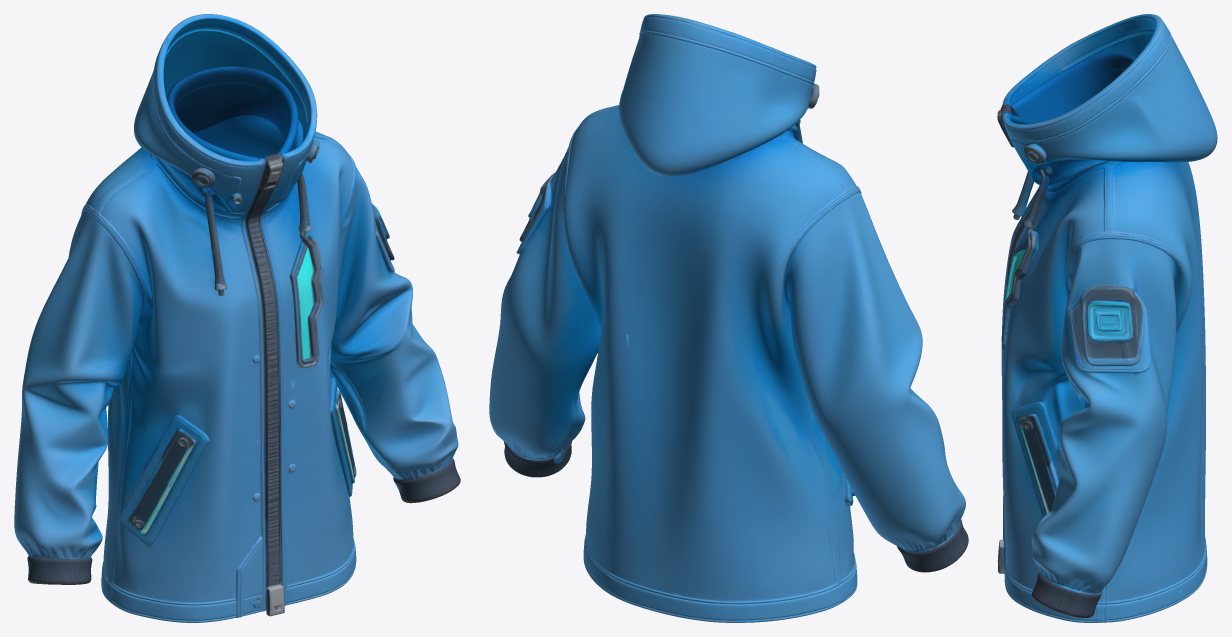
Rendered from windproof_jacket.glb.
The picture shows the model from 3 angles, left to right: view 1: azimuth 30°, elevation 25°; view 2: azimuth 150°, elevation 25°; view 3: azimuth 270°, elevation 25°; orthographic projection. The views are drawn at different scales.
Parts seen in each view (by area): view 1: node_0; view 2: node_0; view 3: node_0.
Boxes of the visible parts, <box> form: node_0: <box>14,14,460,622</box>; node_0: <box>489,14,968,622</box>; node_0: <box>997,14,1217,622</box>.
Size of the model in its own units: 0.8705 by 1.05 by 0.3837.
Materials: 1 (1 with a texture image).
